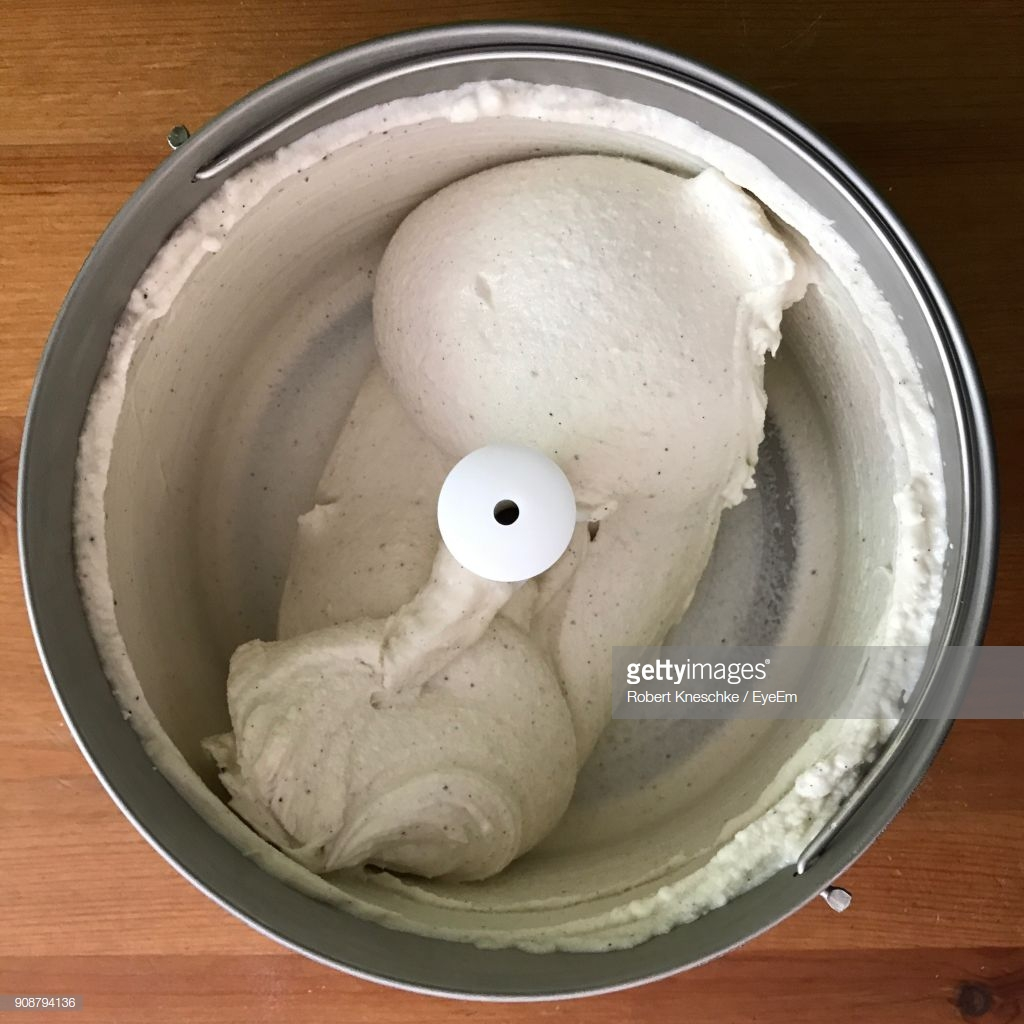ice-cream: (388, 155, 813, 500), (225, 601, 590, 879)
